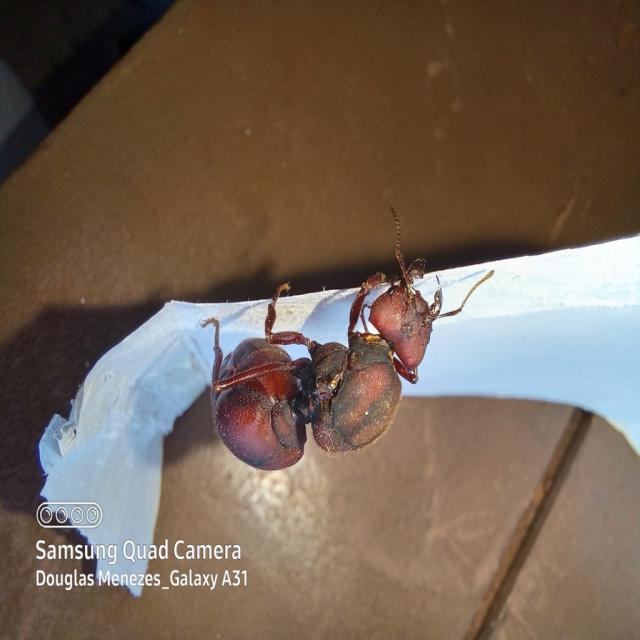Alive-Female-Dealate: (198, 204, 495, 472)
